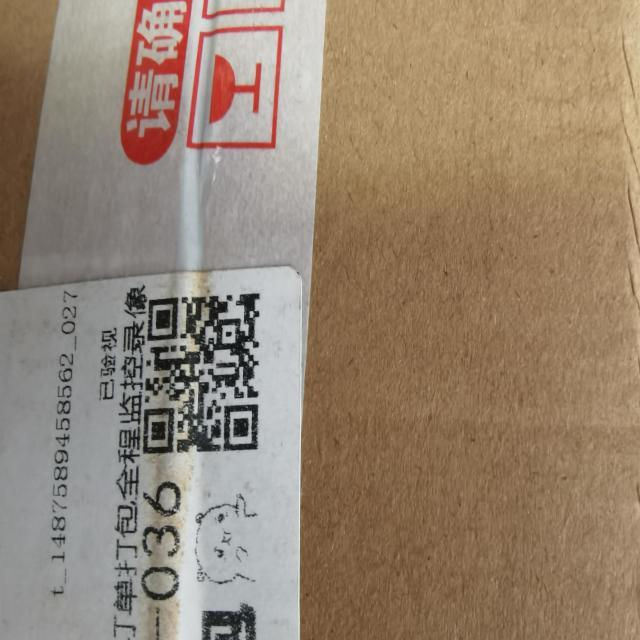qr_code: (143, 294, 260, 453)
